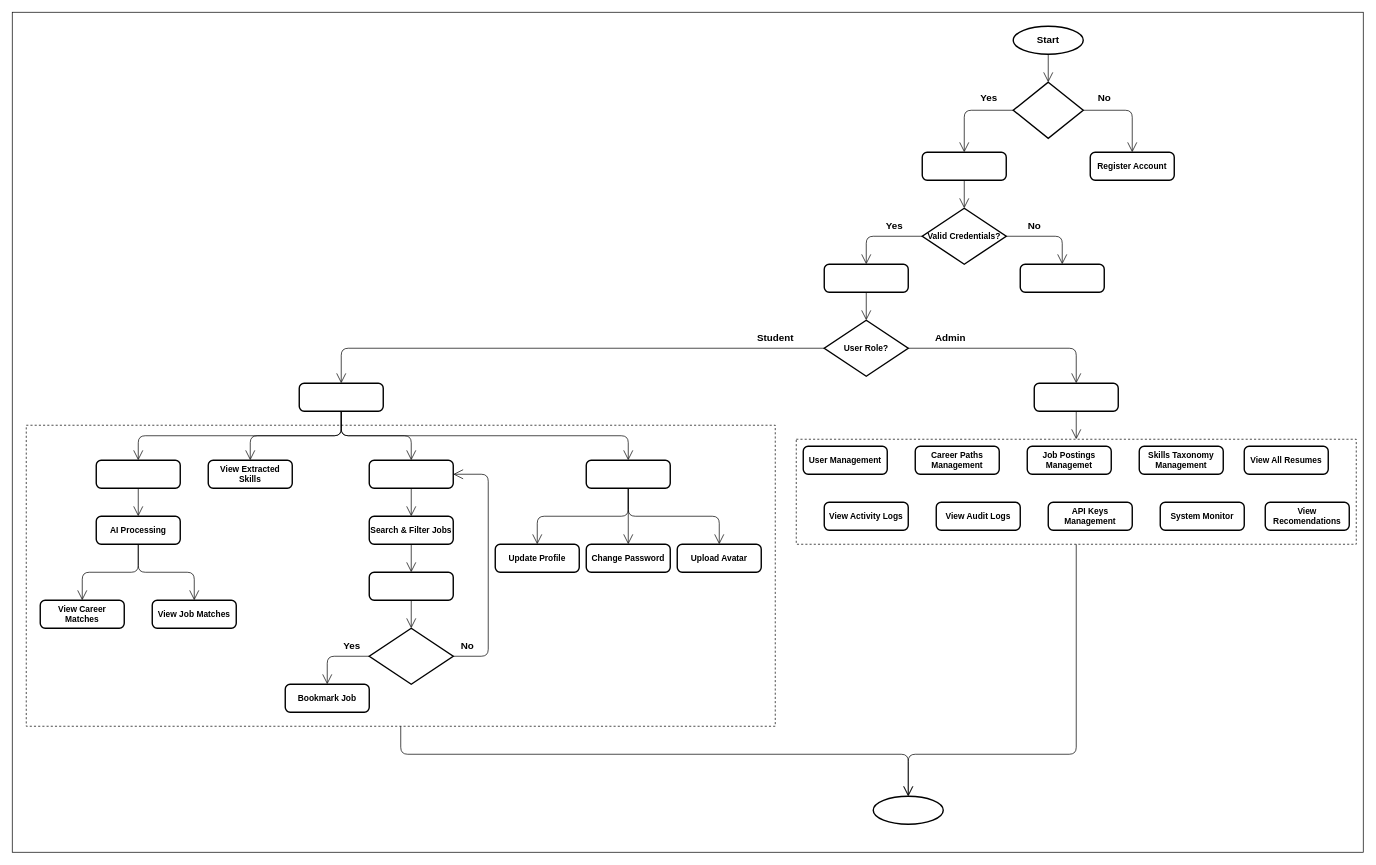
Image size: 1376x865. Some labels were removed from this diagram. The shapes that lost their labels are listed below. From the top down, each one's box as (x1, y1, x2, y2) in pixels, then its label:
(1012, 81, 1084, 139): Has Account?
(921, 151, 1007, 181): Login
(823, 263, 909, 293): Create JWT Session
(1019, 263, 1105, 293): Show Error Message
(298, 382, 384, 412): Student Dashboard
(1033, 382, 1119, 412): Admin Dashboard
(95, 459, 181, 489): Upload Resume
(368, 459, 454, 489): Browse Jobs
(585, 459, 671, 489): Manage Profile
(368, 571, 454, 601): View Job Details
(368, 627, 454, 685): Save Job?
(872, 795, 944, 825): End
